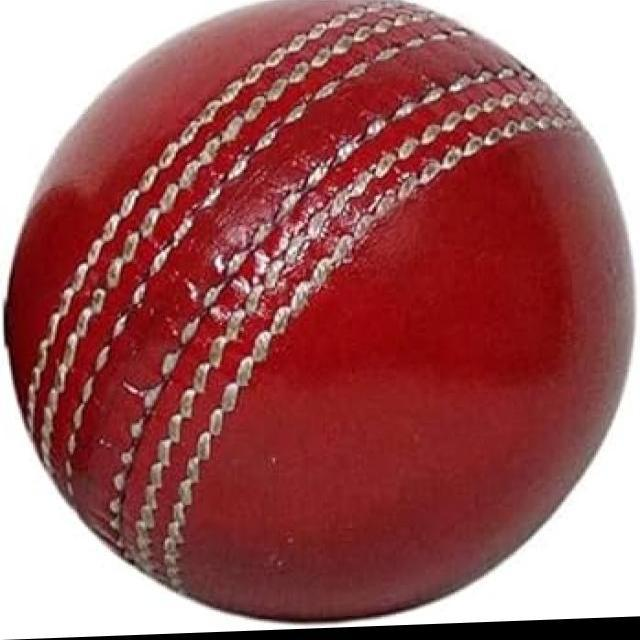cricket ball: (4, 0, 636, 630)
